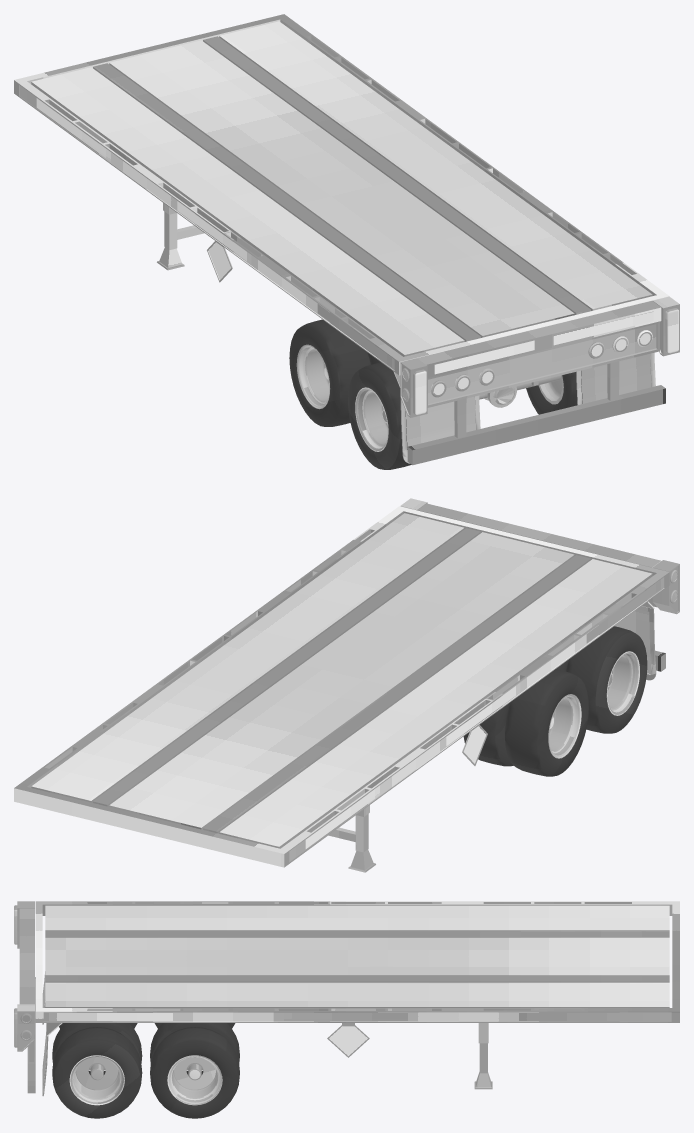
File: SemiTrackFlatbed.glb
3 views of the same model, one above another, from view 1: azimuth 30°, elevation 25°; view 2: azimuth 150°, elevation 25°; view 3: azimuth 270°, elevation 25° (orthographic). The views are drawn at different scales.
Parts seen in each view (by area): view 1: SemiTrackFlatbed; view 2: SemiTrackFlatbed; view 3: SemiTrackFlatbed.
Part boxes in pixels (bbox=[...]): SemiTrackFlatbed: bbox=[14, 14, 679, 469]; SemiTrackFlatbed: bbox=[14, 498, 679, 872]; SemiTrackFlatbed: bbox=[14, 901, 679, 1118].
Size of the model in its own units: 2.59 by 1.24 by 6.6.
1 material, 1 textured.
